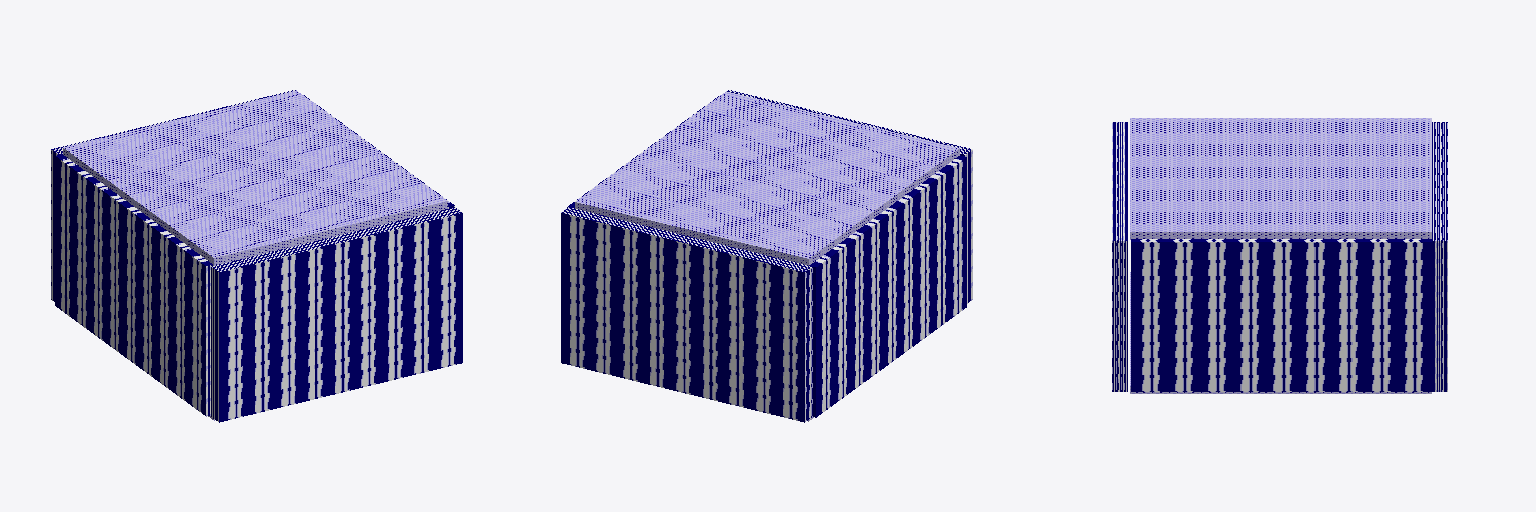
The picture shows the model from 3 angles: view 1: azimuth 30°, elevation 25°; view 2: azimuth 150°, elevation 25°; view 3: azimuth 270°, elevation 25°; orthographic projection.
Visible parts, largest first — view 1: Cube.004, Cube.005, Cube.001, Cube.003; view 2: Cube.003, Cube.005, Cube.001, Cube.004; view 3: Cube.002, Cube.005, Cube.003, Cube.004, Cube.
Boxes of the visible parts, x1=… form: Cube.004: x1=211, y1=207, x2=462, y2=422; Cube.005: x1=63, y1=90, x2=447, y2=265; Cube.001: x1=55, y1=154, x2=212, y2=416; Cube.003: x1=51, y1=90, x2=295, y2=301; Cube.003: x1=561, y1=207, x2=812, y2=422; Cube.005: x1=575, y1=91, x2=959, y2=265; Cube.001: x1=809, y1=155, x2=966, y2=417; Cube.004: x1=727, y1=90, x2=972, y2=303; Cube.002: x1=1131, y1=239, x2=1431, y2=391; Cube.005: x1=1130, y1=118, x2=1431, y2=239; Cube.003: x1=1432, y1=122, x2=1447, y2=391; Cube.004: x1=1112, y1=122, x2=1127, y2=391; Cube: x1=1130, y1=272, x2=1431, y2=393.
Bounding box in the file's own units: 5.46 × 3.41 × 6.39.
6 materials, 2 textured.